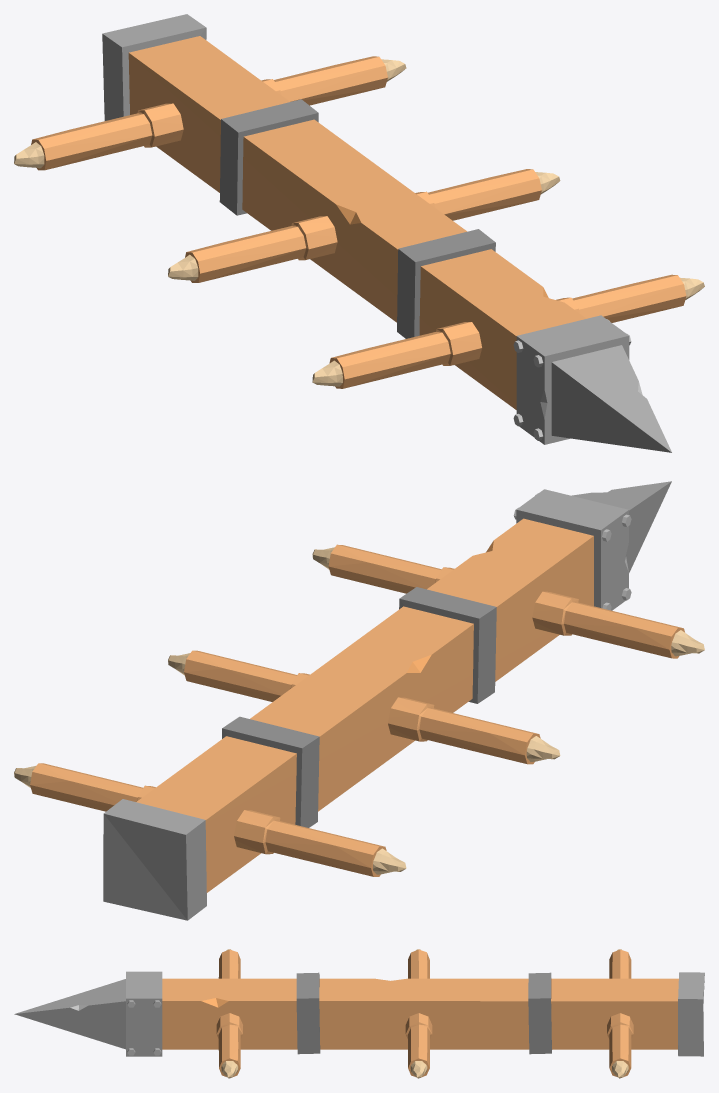
The model's file is battle_ram.01.fbx.
3 views of the same model, one above another, from view 1: azimuth 30°, elevation 25°; view 2: azimuth 150°, elevation 25°; view 3: azimuth 270°, elevation 25° (orthographic). The views are drawn at different scales.
Visible parts, largest first — view 1: battle_ram.01; view 2: battle_ram.01; view 3: battle_ram.01.
Boxes of the visible parts, x1=… form: battle_ram.01: x1=14, y1=14, x2=704, y2=452; battle_ram.01: x1=14, y1=481, x2=704, y2=920; battle_ram.01: x1=14, y1=949, x2=704, y2=1078.
Bounding box in the file's own units: 2.23 × 0.4823 × 5.2.
